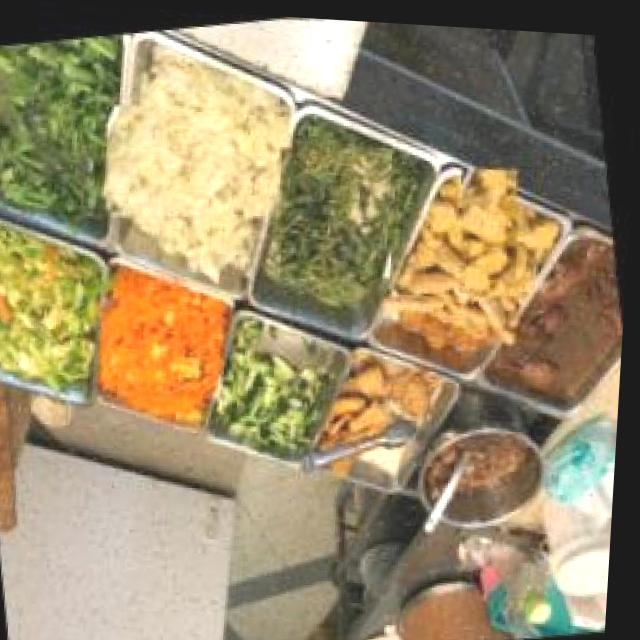carrot_eggs: (93, 275, 237, 420)
chicken_nuggets: (433, 166, 553, 286)
chinese_cabbage: (104, 60, 297, 254)
fried_chicken: (384, 357, 447, 420)
water_spinach: (262, 126, 415, 293)
